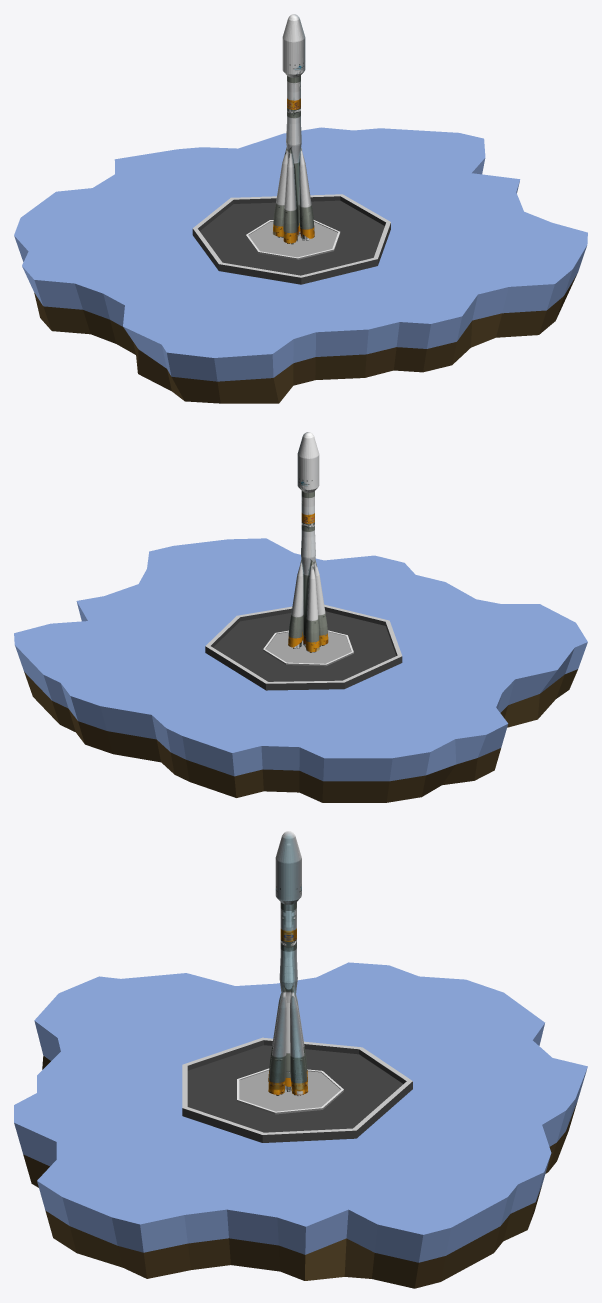
Rendered from Antares copy.gltf.
3 views of the same model, one above another, from view 1: azimuth 30°, elevation 25°; view 2: azimuth 150°, elevation 25°; view 3: azimuth 270°, elevation 25° (orthographic). The views are drawn at different scales.
Visible parts, largest first — view 1: Plane, Circle.001, Cylinder.001, Cylinder.002; view 2: Plane, Circle.001, Cylinder.001, Cylinder.002; view 3: Plane, Circle.001, Cylinder.001, Cylinder.002.
Part boxes in pixels (<box>): Plane: <box>14,127,587,403</box>; Circle.001: <box>192,194,390,284</box>; Cylinder.001: <box>273,14,314,244</box>; Cylinder.002: <box>246,220,340,259</box>; Plane: <box>14,538,587,802</box>; Circle.001: <box>205,604,402,690</box>; Cylinder.001: <box>288,432,328,652</box>; Cylinder.002: <box>263,630,353,666</box>; Plane: <box>14,962,587,1288</box>; Circle.001: <box>182,1037,412,1142</box>; Cylinder.001: <box>268,831,308,1096</box>; Cylinder.002: <box>237,1068,343,1114</box>.
Bounding box in the file's own units: 8.06 × 4.48 × 7.18.
9 materials, 2 textured.
